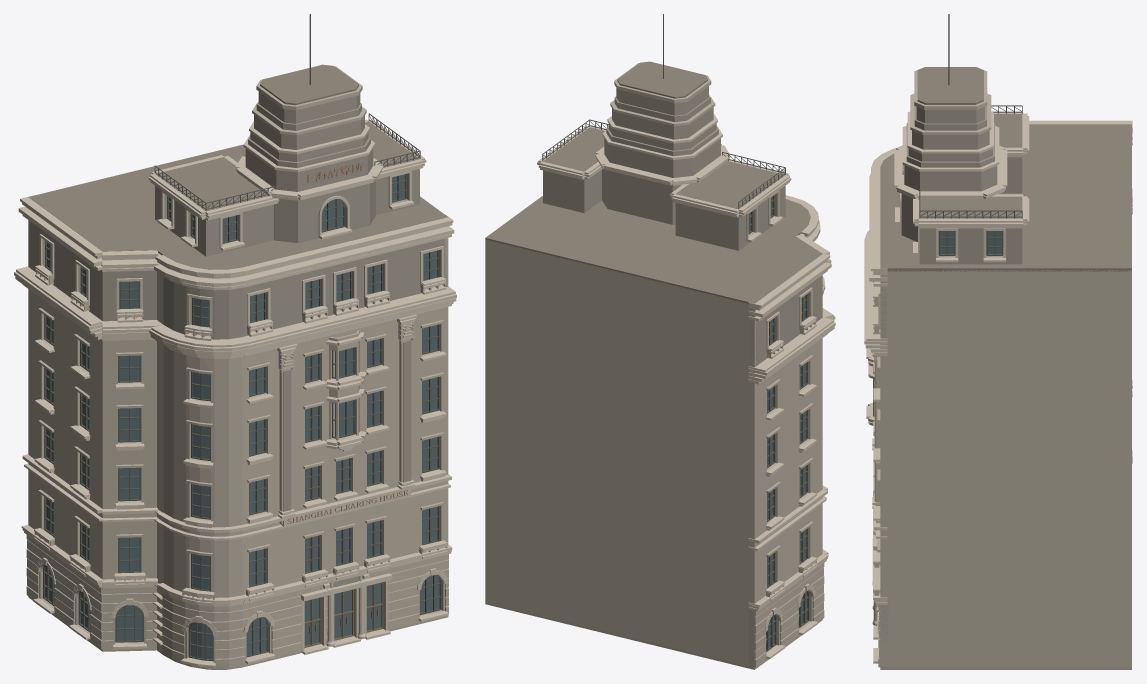
The model's file is huangpu-glen-line-building-lod.glb.
3 renders of one model, left to right at view 1: azimuth 30°, elevation 25°; view 2: azimuth 150°, elevation 25°; view 3: azimuth 270°, elevation 25°, orthographic. The views are drawn at different scales.
Parts seen in each view (by area): view 1: 格林邮船大楼（外滩28号临江正面与东南街角）; view 2: 格林邮船大楼（外滩28号临江正面与东南街角）; view 3: 格林邮船大楼（外滩28号临江正面与东南街角）.
Part boxes in pixels (<box>): 格林邮船大楼（外滩28号临江正面与东南街角）: <box>14,14,456,669</box>; 格林邮船大楼（外滩28号临江正面与东南街角）: <box>485,14,835,669</box>; 格林邮船大楼（外滩28号临江正面与东南街角）: <box>864,14,1132,669</box>.
Size of the model in its own units: 21.32 by 39.78 by 16.
